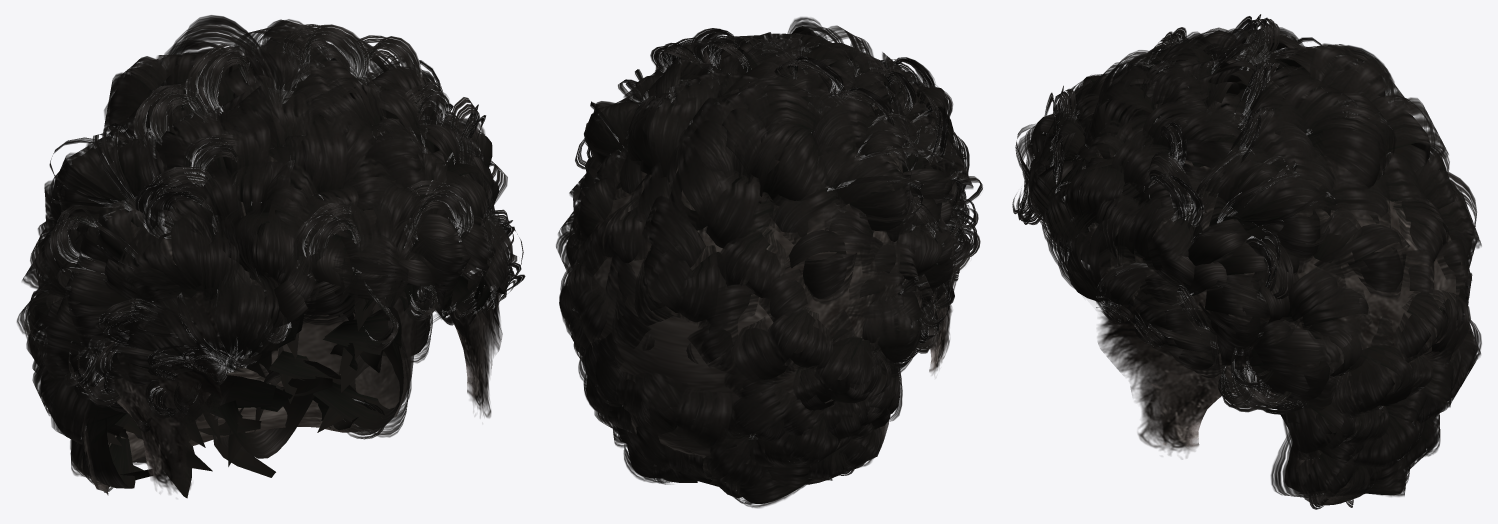
The model's file is diamond_wavy_02Kribo_.glb.
3 views of the same model, side by side, from view 1: azimuth 30°, elevation 25°; view 2: azimuth 150°, elevation 25°; view 3: azimuth 270°, elevation 25° (orthographic). The views are drawn at different scales.
Visible parts, largest first — view 1: s4studio_mesh_4, s4studio_mesh_5, CurlyScalp, s4studio_mesh_1, s4studio_mesh_2, s4studio_mesh_2.001, curly1.002, curly1.001, curly1, s4studio_mesh_4.006, s4studio_mesh_5.003, s4studio_mesh_5.001 (+10 smaller); view 2: s4studio_mesh_4, s4studio_mesh_5, CurlyScalp, s4studio_mesh_1, s4studio_mesh_2; view 3: s4studio_mesh_4, s4studio_mesh_5, CurlyScalp, curly1, s4studio_mesh_2, curly1.001, s4studio_mesh_5.005, s4studio_mesh_5.001, s4studio_mesh_1, curly3, s4studio_mesh_5.002.
Part boxes in pixels (x1,y1,x2,y2): s4studio_mesh_4: (16,15,525,492); s4studio_mesh_5: (28,31,498,498); CurlyScalp: (50,116,502,495); s4studio_mesh_1: (32,269,474,488); s4studio_mesh_2: (45,280,478,486); s4studio_mesh_2.001: (218,378,323,458); curly1.002: (297,259,363,325); curly1.001: (413,232,470,293); curly1: (446,215,495,283); s4studio_mesh_4.006: (385,218,430,310); s4studio_mesh_5.003: (305,234,346,301); s4studio_mesh_5.001: (353,138,422,180); s4studio_mesh_4: (556,17,982,508); s4studio_mesh_5: (559,38,957,499); CurlyScalp: (577,89,957,484); s4studio_mesh_1: (583,289,942,503); s4studio_mesh_2: (632,406,890,485); s4studio_mesh_4: (1015,14,1481,509); s4studio_mesh_5: (1057,30,1474,494); CurlyScalp: (1080,103,1466,505); curly1: (1042,182,1081,258); s4studio_mesh_2: (1178,350,1427,495); curly1.001: (1027,163,1065,231); s4studio_mesh_5.005: (1067,236,1108,302); s4studio_mesh_5.001: (1092,99,1131,158); s4studio_mesh_1: (1257,349,1472,494); curly3: (1047,186,1089,264); s4studio_mesh_5.002: (1038,160,1084,197).
Bounding box in the file's own units: 0.2309 × 0.2456 × 0.2388.
Materials: 2 (2 with a texture image).
